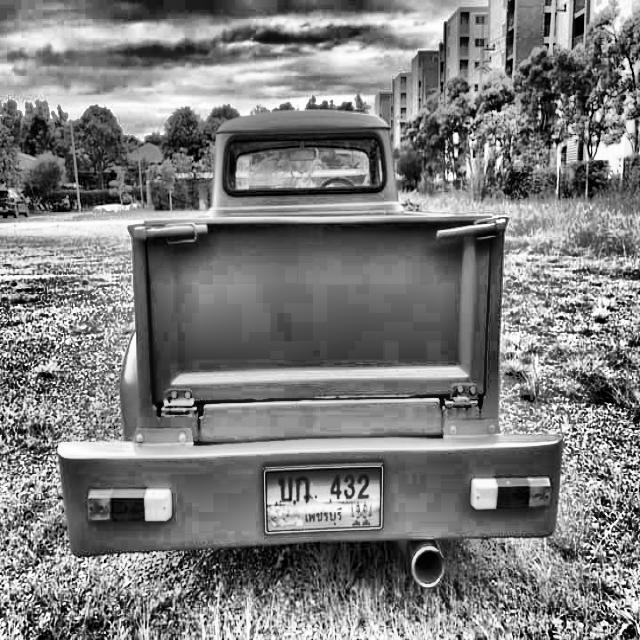license-plate: (262, 464, 384, 534)
